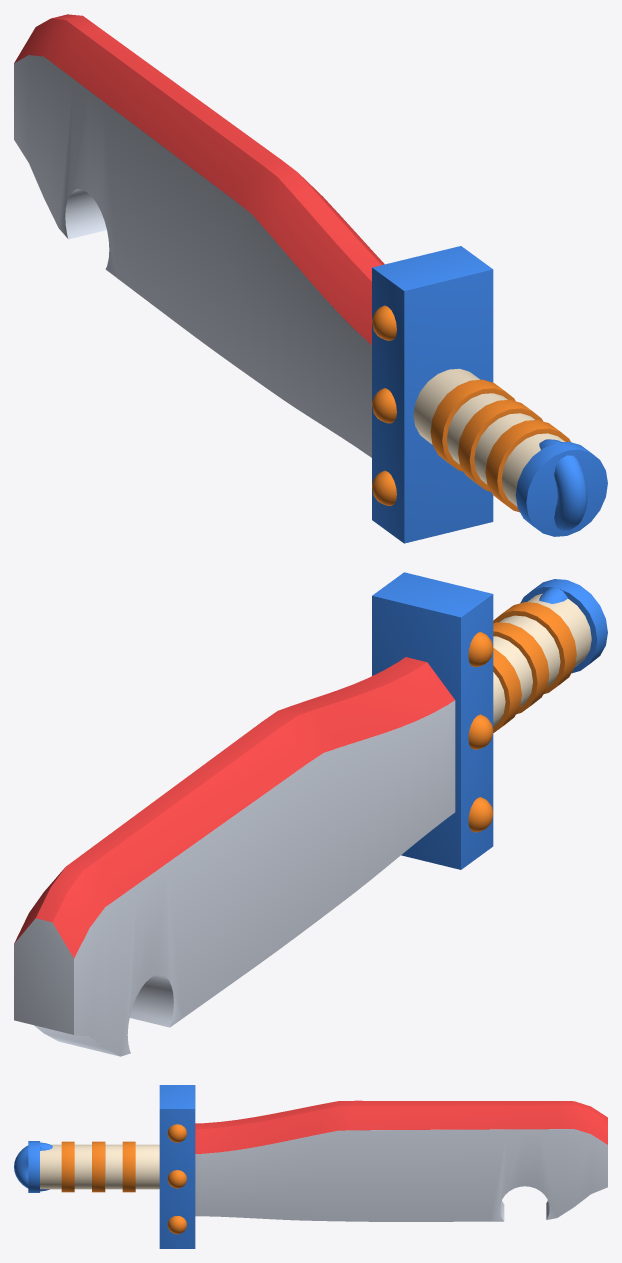
Rendered from Boss_Gorgon.glb.
3 views of the same model, one above another, from view 1: azimuth 30°, elevation 25°; view 2: azimuth 150°, elevation 25°; view 3: azimuth 270°, elevation 25° (orthographic). The views are drawn at different scales.
Parts seen in each view (by area): view 1: Boss_Gorgon; view 2: Boss_Gorgon; view 3: Boss_Gorgon.
Part boxes in pixels (bbox=[...]): Boss_Gorgon: bbox=[14, 14, 607, 543]; Boss_Gorgon: bbox=[14, 572, 607, 1056]; Boss_Gorgon: bbox=[14, 1085, 607, 1248].
Size of the model in its own units: 0.1251 by 0.26 by 1.
1 material, 1 textured.
